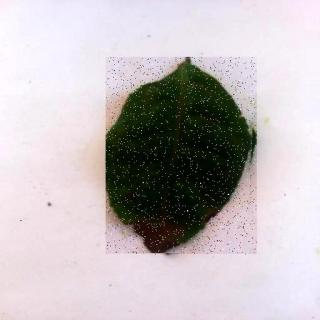Brown Blight: (107, 58, 258, 256)
